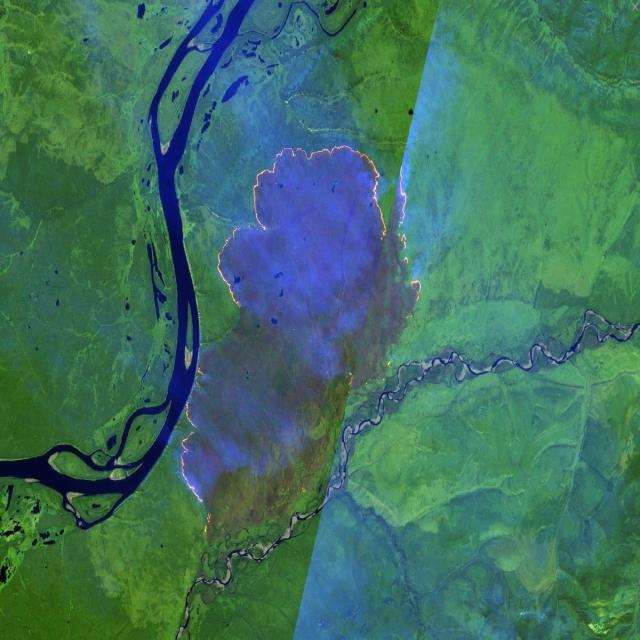fire: (213, 133, 430, 309), (173, 358, 218, 538)
